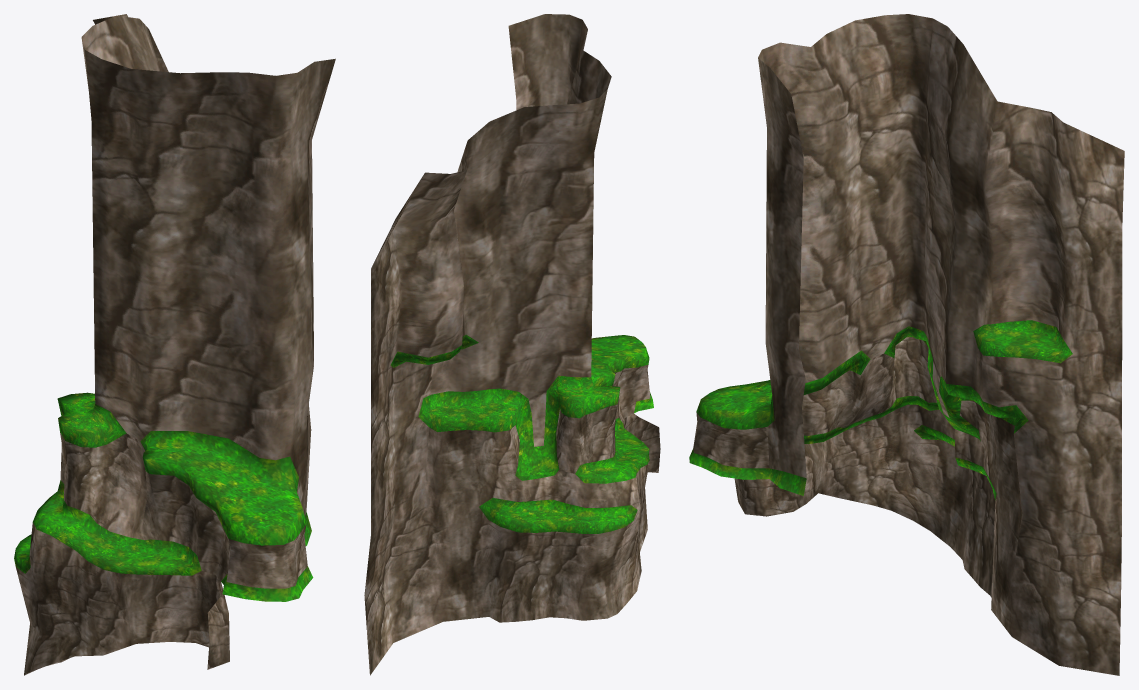
The model's file is EKH_ENTRANCE_PS_EN_ROCK_36354__GX.fbx.
3 views of the same model, side by side, from view 1: azimuth 30°, elevation 25°; view 2: azimuth 150°, elevation 25°; view 3: azimuth 270°, elevation 25° (orthographic). The views are drawn at different scales.
Parts seen in each view (by area): view 1: EKH_ENTRANCE_PS_EN_ROCK_36354__GX; view 2: EKH_ENTRANCE_PS_EN_ROCK_36354__GX; view 3: EKH_ENTRANCE_PS_EN_ROCK_36354__GX.
Boxes of the visible parts, <box> form: EKH_ENTRANCE_PS_EN_ROCK_36354__GX: <box>14,14,335,675</box>; EKH_ENTRANCE_PS_EN_ROCK_36354__GX: <box>364,14,660,675</box>; EKH_ENTRANCE_PS_EN_ROCK_36354__GX: <box>689,14,1124,675</box>.
Size of the model in its own units: 80681 by 227693 by 149718.
Materials: 2 (2 with a texture image).
